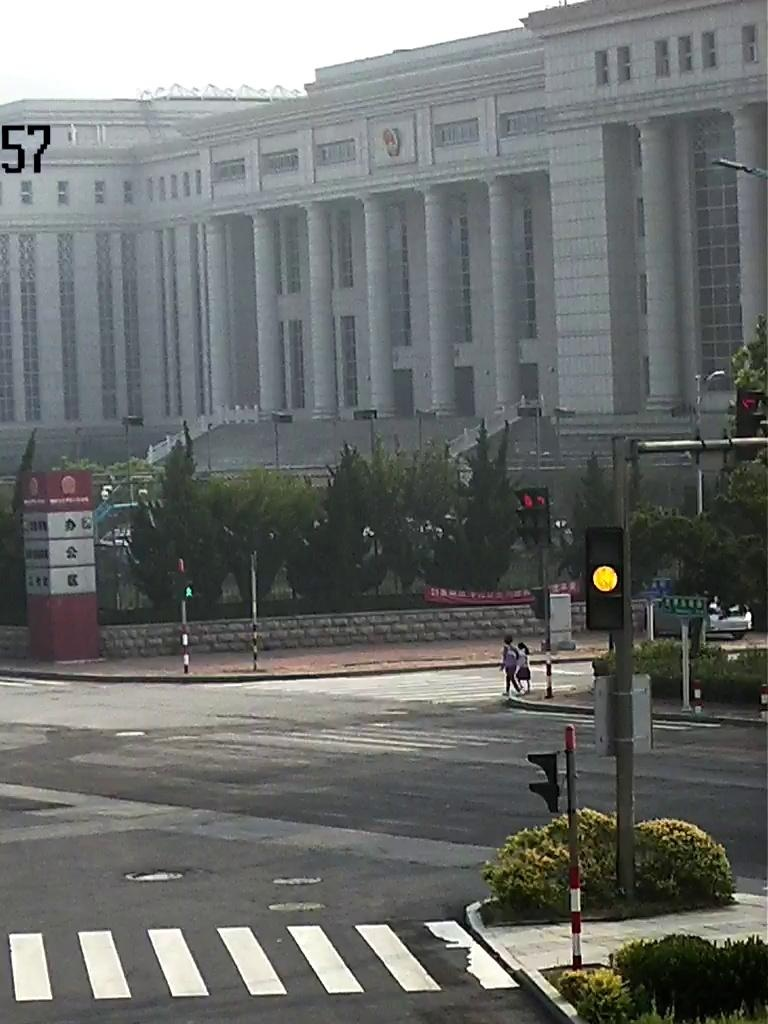greenpeople: (181, 583, 197, 597)
red: (517, 491, 538, 512)
yellow: (583, 564, 621, 596)
